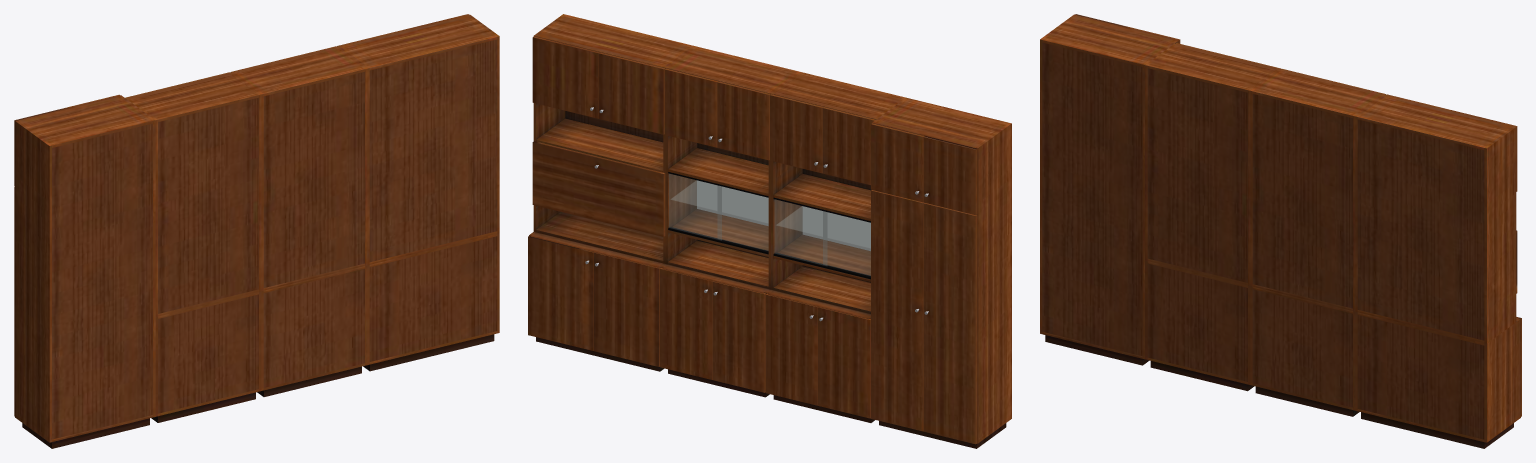
File: stenka_long_lod1_web.glb
The picture shows the model from 3 angles, left to right: view 1: azimuth 30°, elevation 25°; view 2: azimuth 150°, elevation 25°; view 3: azimuth 330°, elevation 25°; orthographic projection.
Parts seen in each view (by area): view 1: StenkaLong_Body; view 2: StenkaLong_Body, Door_4L0_R_Mesh, Door_4L0_L_Mesh, Flap_1U1_Mesh, Door_1L0_R_Mesh, Door_1L0_L_Mesh, Door_2L0_R_Mesh, Door_3L0_L_Mesh, Door_3L0_R_Mesh, Door_2L0_L_Mesh, Door_1U3_L_Mesh, Door_1U3_R_Mesh (+14 smaller); view 3: StenkaLong_Body.
Boxes of the visible parts, <box> form: StenkaLong_Body: <box>15,14,499,448</box>; StenkaLong_Body: <box>529,14,1011,448</box>; Door_4L0_R_Mesh: <box>923,203,977,444</box>; Door_4L0_L_Mesh: <box>871,190,923,431</box>; Flap_1U1_Mesh: <box>532,141,665,236</box>; Door_1L0_R_Mesh: <box>594,252,660,366</box>; Door_1L0_L_Mesh: <box>528,235,593,350</box>; Door_2L0_R_Mesh: <box>712,281,765,392</box>; Door_3L0_L_Mesh: <box>765,293,817,405</box>; Door_3L0_R_Mesh: <box>818,307,870,418</box>; Door_2L0_L_Mesh: <box>660,268,712,379</box>; Door_1U3_L_Mesh: <box>532,36,599,118</box>; Door_1U3_R_Mesh: <box>598,52,665,134</box>; StenkaLong_Body: <box>1040,14,1520,448</box>.
Bounding box in the file's own units: 3.4 × 2.2 × 0.4979.
Materials: 4 (2 with a texture image).
